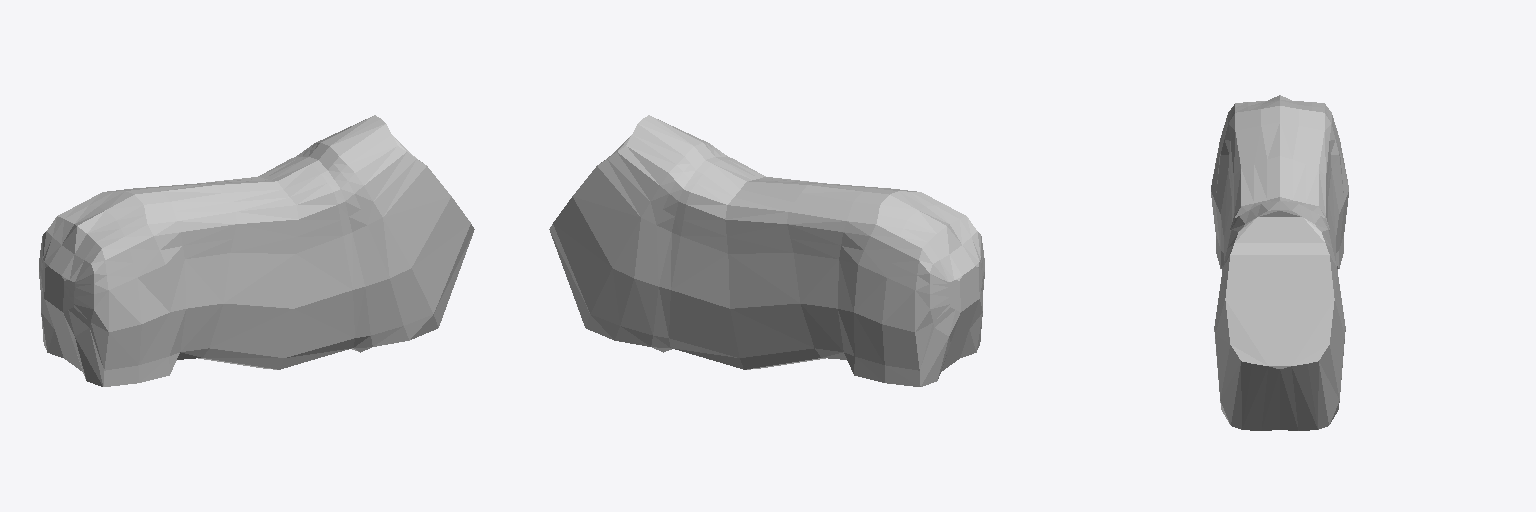
Rendered from horse_body.obj.
3 views of the same model, side by side, from view 1: azimuth 30°, elevation 25°; view 2: azimuth 150°, elevation 25°; view 3: azimuth 270°, elevation 25° (orthographic).
Visible parts, largest first — view 1: Plane_Plane.001; view 2: Plane_Plane.001; view 3: Plane_Plane.001.
Part boxes in pixels (x1,y1,x2,y2): Plane_Plane.001: (39, 115, 474, 386); Plane_Plane.001: (549, 115, 984, 386); Plane_Plane.001: (1211, 95, 1348, 430).
Size of the model in its own units: 1.45 by 0.7287 by 0.4298.